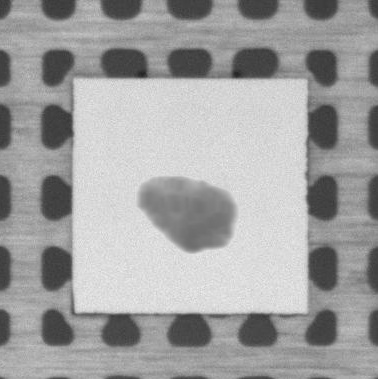DIE_INK: (134, 170, 237, 253)
